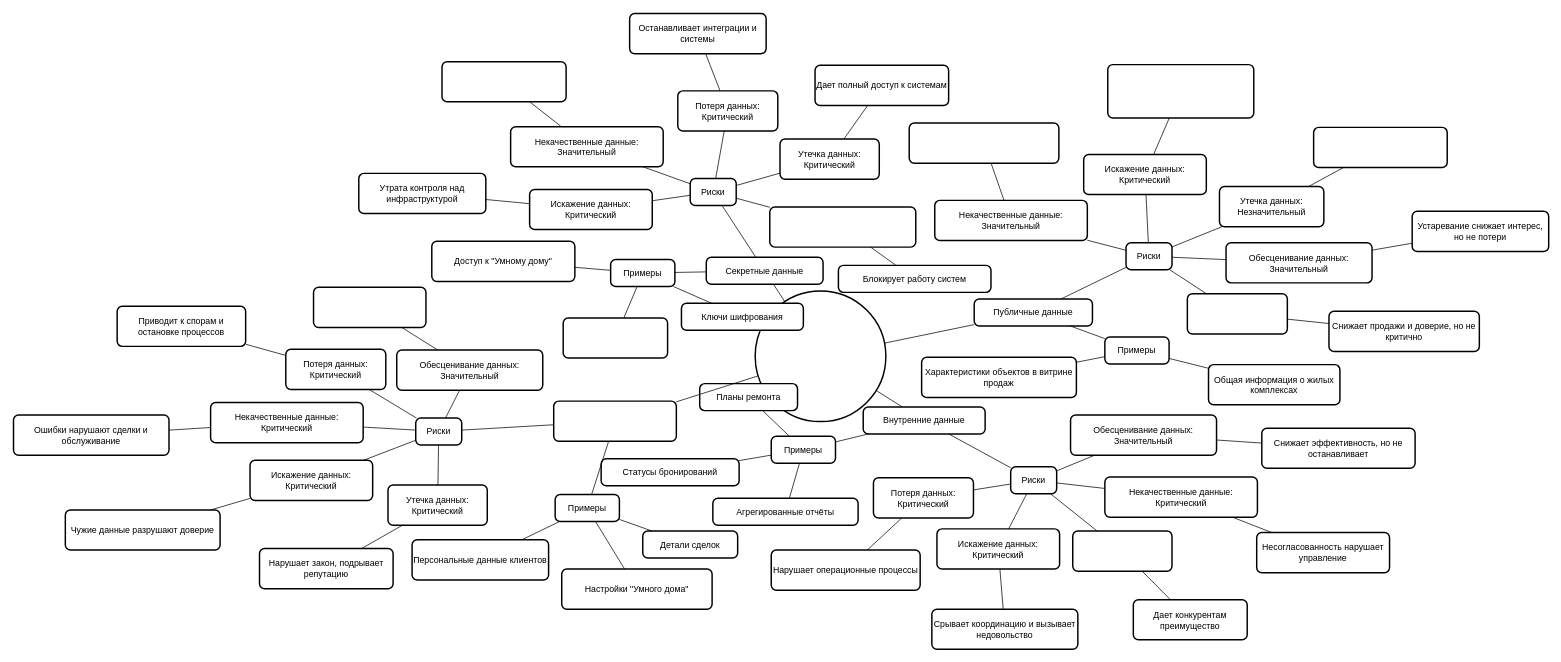
Some shapes in this 1561 by 662 pixel diagram are drawn without their labels. The box of each missing label's shape, as (x1, y1, x2, y2) in pixels:
Безопасность данных: (754, 290, 886, 422)
Данные уже открыты, утечка не влияет: (1313, 126, 1448, 168)
Конфиденциальные данные: (553, 400, 677, 442)
Ложные данные подрывают репутацию и продажи: (1107, 64, 1254, 118)
Обесценивание данных: Критический: (769, 206, 916, 247)
Потеря данных: Значительный: (1186, 293, 1288, 334)
Раздражают клиентов, снижают эффективность: (908, 122, 1059, 164)
Сбои доступа, но не разрушение: (441, 61, 566, 102)
Снижает качество сервисов: (312, 286, 426, 328)
Утечка данных: Значительный: (1072, 530, 1172, 572)
Учетные данные пользователей: (562, 317, 668, 358)
